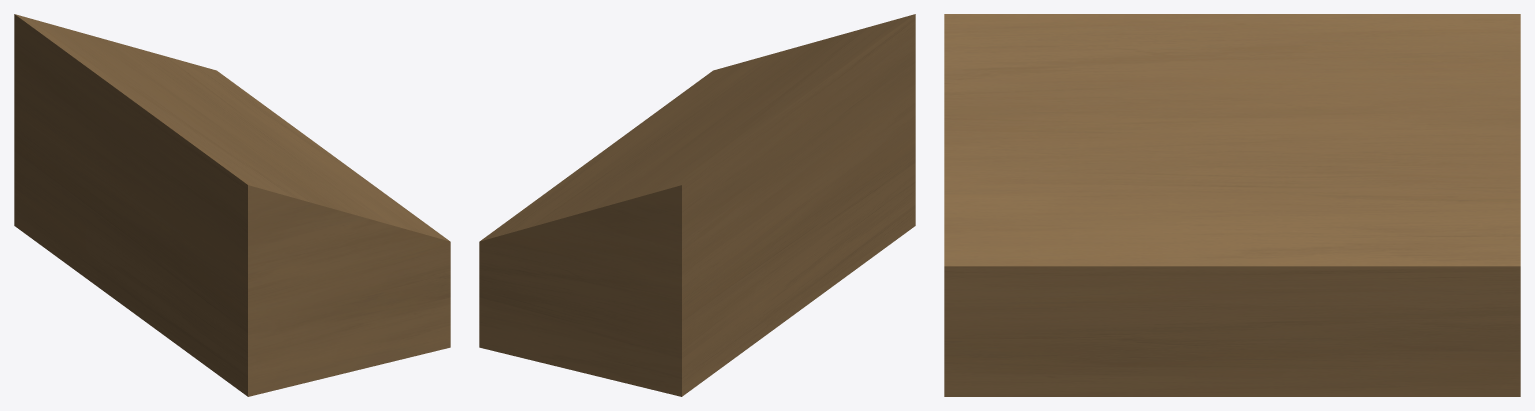
File: 4x2x1Ramp.glb
3 views of the same model, side by side, from view 1: azimuth 30°, elevation 25°; view 2: azimuth 150°, elevation 25°; view 3: azimuth 270°, elevation 25° (orthographic). The views are drawn at different scales.
Parts seen in each view (by area): view 1: 4x2x1Ramp; view 2: 4x2x1Ramp; view 3: 4x2x1Ramp.
Part boxes in pixels (box(x1,y1,x2,y2)): 4x2x1Ramp: box(14, 14, 450, 396); 4x2x1Ramp: box(479, 14, 915, 396); 4x2x1Ramp: box(944, 14, 1520, 396).
Bounding box in the file's own units: 4 × 4 × 8.
1 material, 1 textured.
